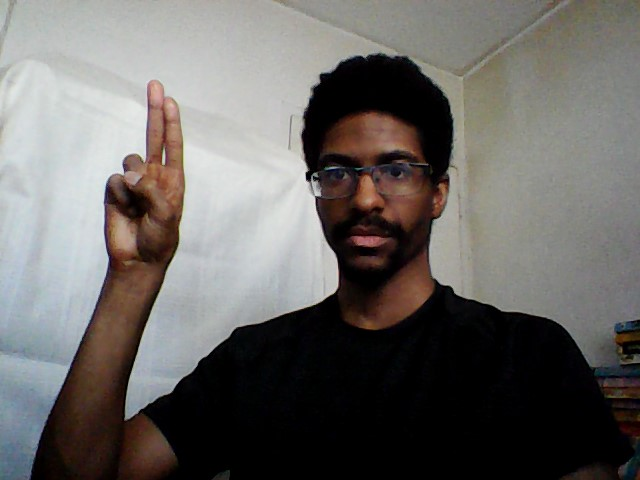u: (98, 74, 190, 279)
